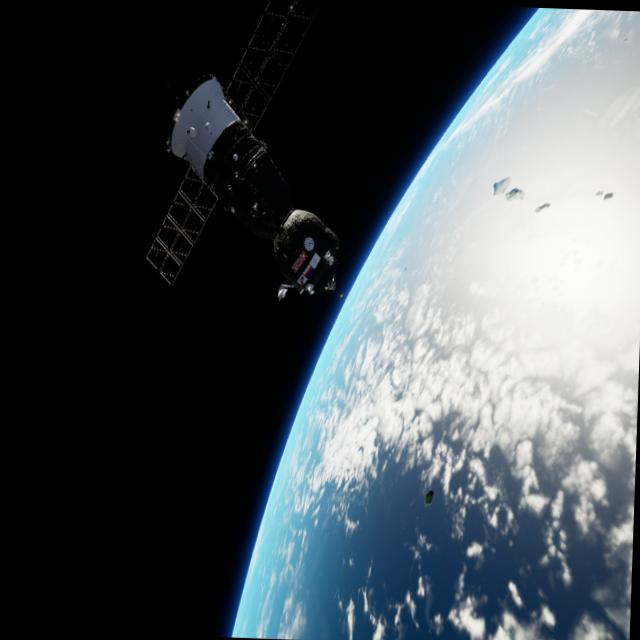Satellites revolving around earth: (229, 0, 640, 640), (142, 68, 351, 308)
